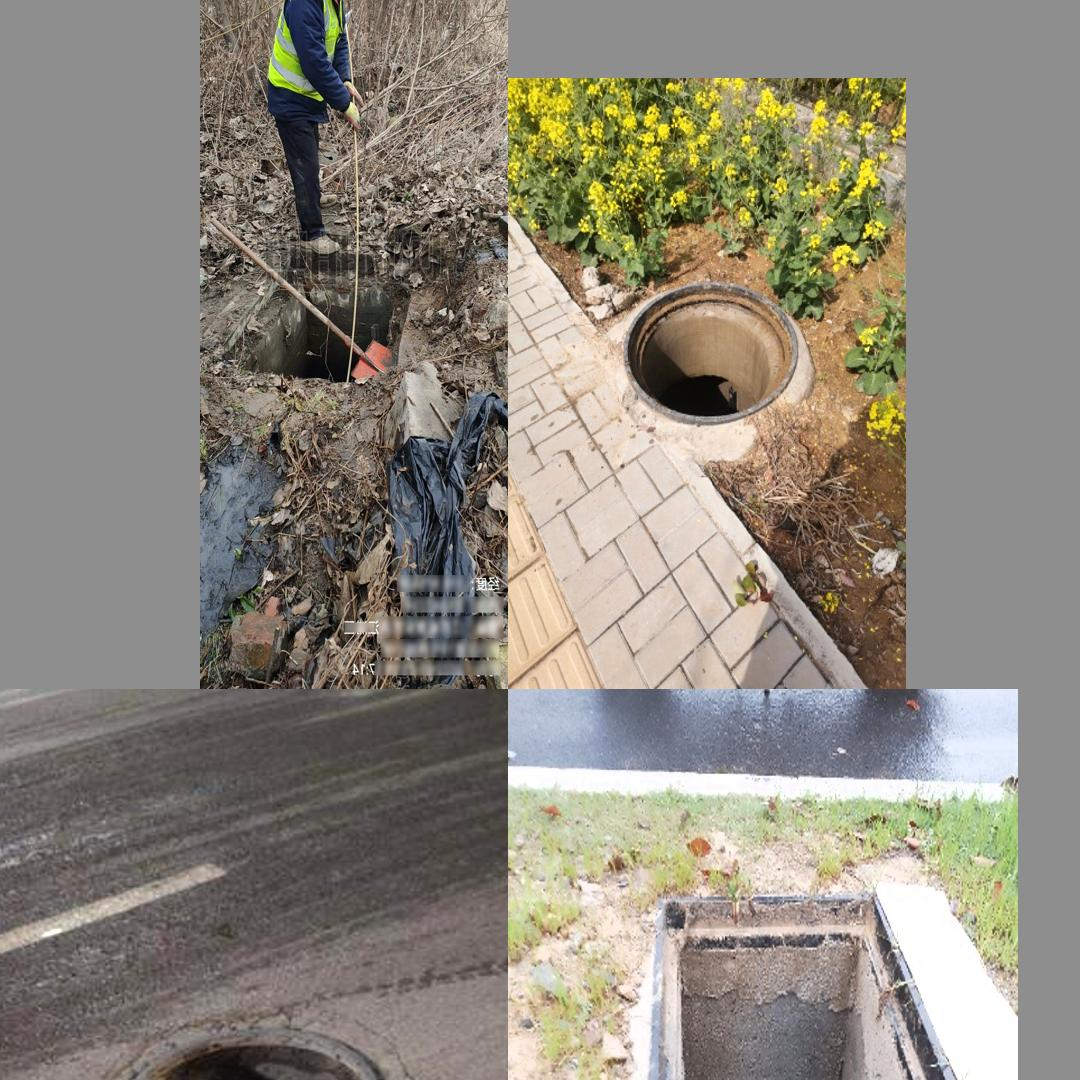lose: (640, 874, 1018, 1080), (610, 265, 806, 424), (65, 1005, 424, 1080), (220, 279, 416, 390)
